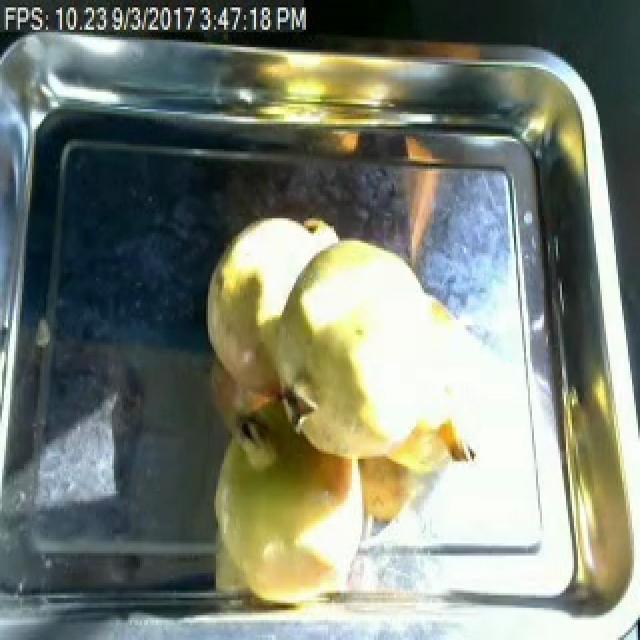fruit: (218, 218, 496, 491)
